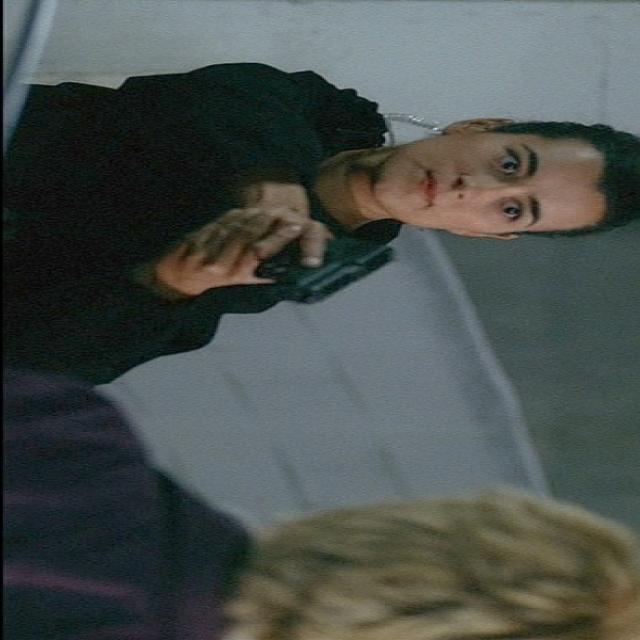weapons: (158, 210, 428, 316)
